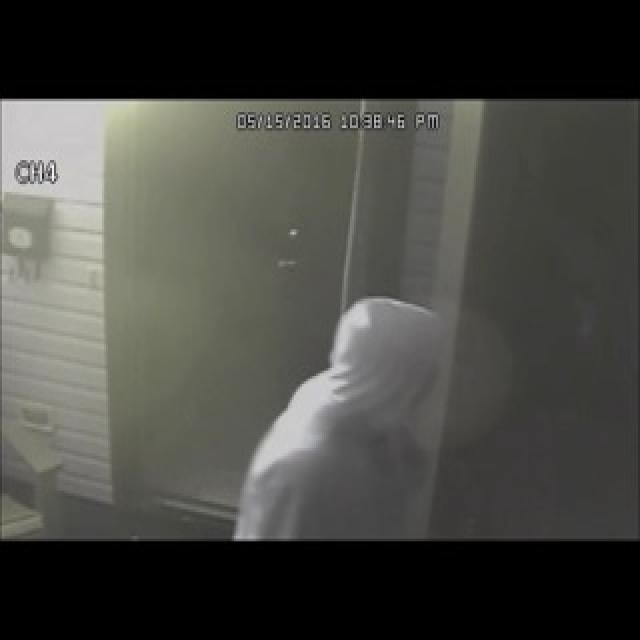thief: (258, 265, 445, 460)
